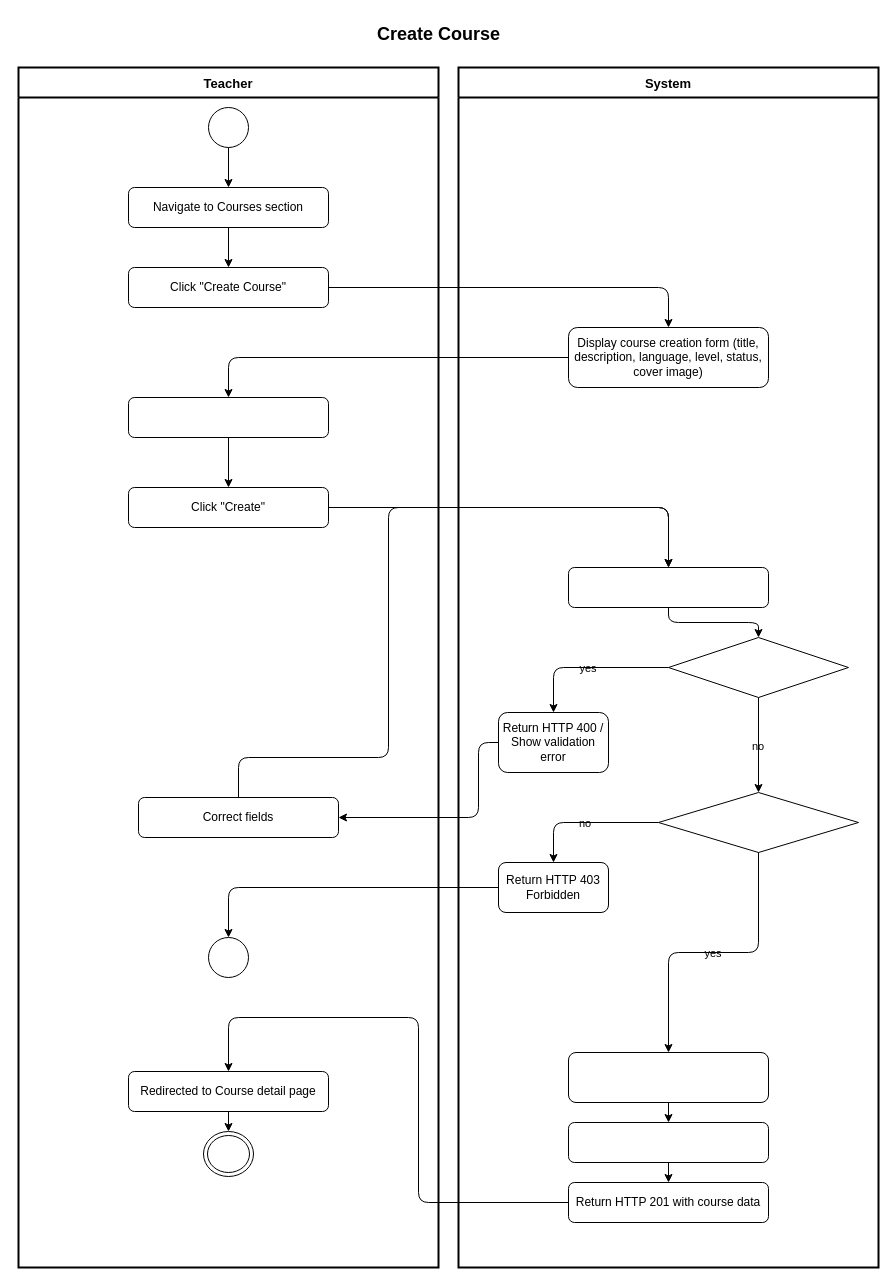
Some shapes in this 896 by 1285 pixel diagram are drawn without their labels. The centre of each missing label's shape, as x and y in pixels:
"Fill in course details" belongs at [228,417].
"Generate unique slug" belongs at [668,1142].
"Insert Course record (linked to Teacher as owner)" belongs at [668,1077].
"Title empty?" belongs at [758,667].
"User is Teacher with verified email?" belongs at [758,822].
"Validate input fields" belongs at [668,587].
